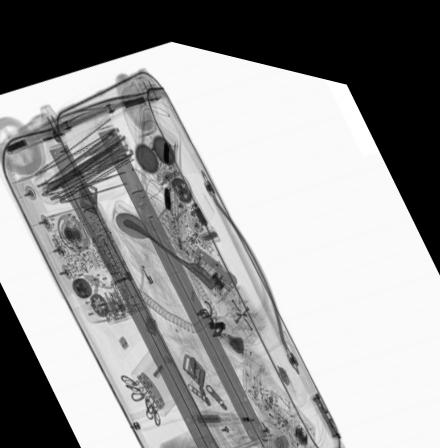Knife: (195, 235, 238, 276)
